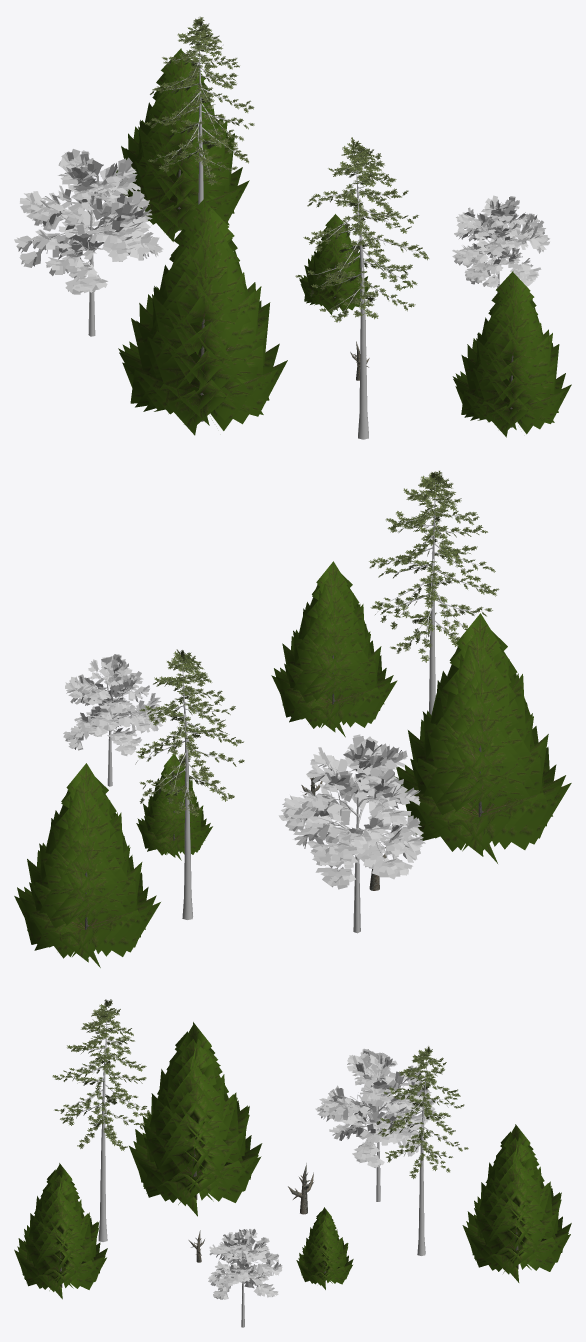
File: mountain_forest.obj
The picture shows the model from 3 angles, top to bottom: view 1: azimuth 30°, elevation 25°; view 2: azimuth 150°, elevation 25°; view 3: azimuth 270°, elevation 25°; orthographic projection. The views are drawn at different scales.
Parts seen in each view (by area): view 1: fir.002, leaves.002, fir.001, fir, leaves.003, leaves, leaves.001, fir.003, HandmadeTree2.001, HandmadeTree2, HandmadeTree1.001; view 2: fir.002, fir.001, leaves.002, fir, leaves.003, leaves, leaves.001, fir.003, HandmadeTree2, HandmadeTree2.001, HandmadeTree1.001; view 3: fir.002, fir.001, fir, leaves.002, leaves.003, leaves.001, leaves, fir.003, HandmadeTree2.001, HandmadeTree2, HandmadeTree1.001, Circle_Circle.001.
Boxes of the visible parts, bbox=[...] form: fir.002: bbox=[118, 198, 287, 435]; leaves.002: bbox=[14, 149, 163, 294]; fir.001: bbox=[116, 48, 249, 241]; fir: bbox=[452, 271, 571, 437]; leaves.003: bbox=[295, 137, 429, 322]; leaves: bbox=[452, 195, 549, 287]; leaves.001: bbox=[145, 16, 254, 185]; fir.003: bbox=[299, 214, 371, 314]; HandmadeTree2.001: bbox=[305, 150, 418, 439]; HandmadeTree2: bbox=[159, 27, 245, 204]; HandmadeTree1.001: bbox=[29, 163, 147, 336]; fir.002: bbox=[394, 613, 571, 863]; fir.001: bbox=[14, 763, 160, 967]; leaves.002: bbox=[278, 734, 425, 889]; fir: bbox=[271, 561, 397, 737]; leaves.003: bbox=[369, 470, 499, 662]; leaves: bbox=[63, 654, 162, 755]; leaves.001: bbox=[135, 649, 244, 816]; fir.003: bbox=[136, 754, 212, 860]; HandmadeTree2: bbox=[145, 659, 234, 919]; HandmadeTree2.001: bbox=[379, 478, 485, 715]; HandmadeTree1.001: bbox=[300, 769, 402, 933]; fir.002: bbox=[129, 1022, 262, 1216]; fir.001: bbox=[462, 1124, 571, 1282]; fir: bbox=[14, 1163, 107, 1299]; leaves.002: bbox=[315, 1048, 435, 1167]; leaves.003: bbox=[52, 999, 150, 1150]; leaves.001: bbox=[376, 1046, 468, 1178]; leaves: bbox=[208, 1229, 282, 1299]; fir.003: bbox=[296, 1207, 353, 1289]; HandmadeTree2.001: bbox=[61, 1013, 140, 1241]; HandmadeTree2: bbox=[384, 1056, 456, 1255]; HandmadeTree1.001: bbox=[342, 1070, 413, 1201]; Circle_Circle.001: bbox=[288, 1163, 313, 1214].
Bounding box in the file's own units: 43.85 × 28.29 × 59.64.
